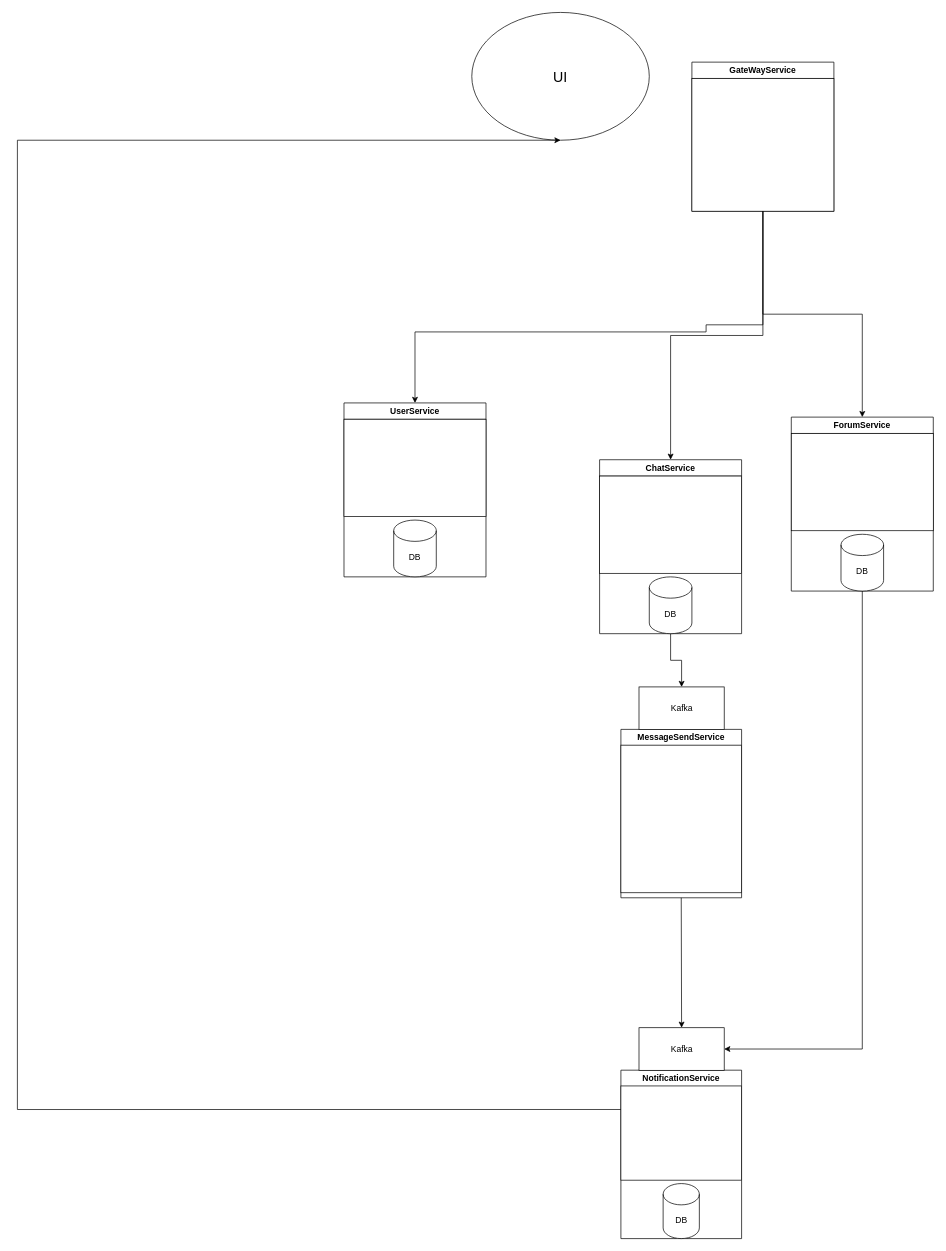
Some shapes in this 946 by 1251 pixel diagram are drawn without their labels. The shapes that lost their labels are listed below. From the top down, each one's centre as x and y in pixels, then its label:
At (762,144): "Принимает все запросы и перенаправляет их, в будующем заменить на Nginx/Eureka".
At (414,468): "Отвечает за регистрацию, аутентификацию, и данные пользователя.".
At (862,482): "Отвечает за форумы и отправку сообщения в них".
At (670,524): "Хранит информацию о чате".
At (681,818): "Отвечает за отправку сообщений".
At (681,1132): "Отвечает за хранение и отправку уведомлений пользователю".
